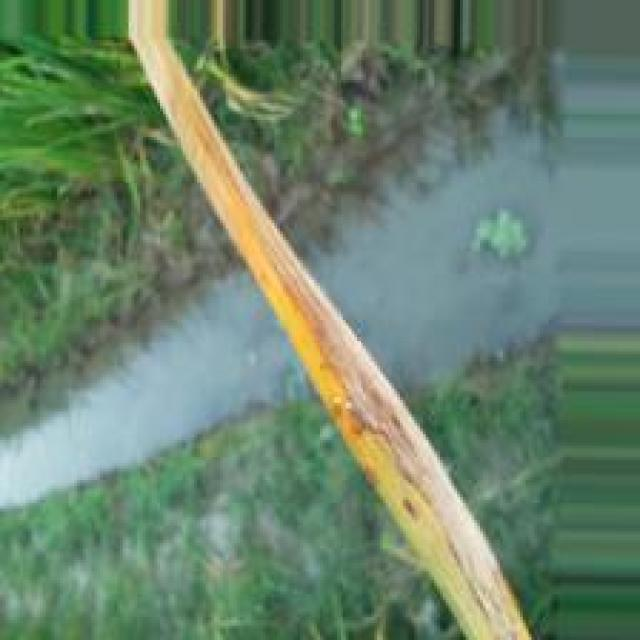Leaf_Scald: (172, 94, 522, 637)
